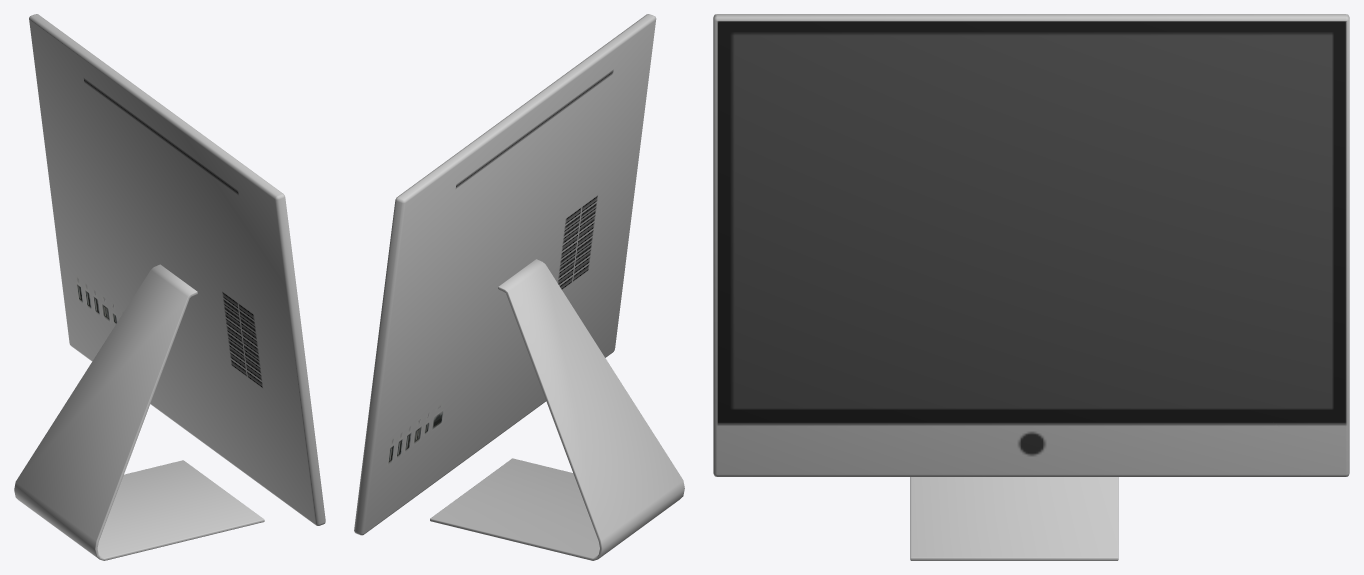
The model's file is computer2.FBX.
The picture shows the model from 3 angles, left to right: view 1: azimuth 30°, elevation 25°; view 2: azimuth 150°, elevation 25°; view 3: azimuth 270°, elevation 25°; orthographic projection. The views are drawn at different scales.
Parts seen in each view (by area): view 1: computer2; view 2: computer2; view 3: computer2.
Boxes of the visible parts, x1,y1,x2,y2 form: computer2: (14, 14, 325, 560); computer2: (354, 14, 684, 560); computer2: (713, 14, 1349, 560).
Size of the model in its own units: 7.24 by 18.37 by 16.2.
1 material, 1 textured.
